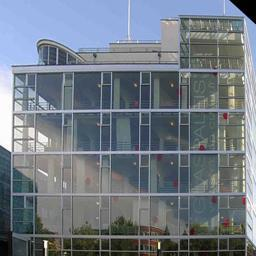building: (9, 0, 247, 256)
